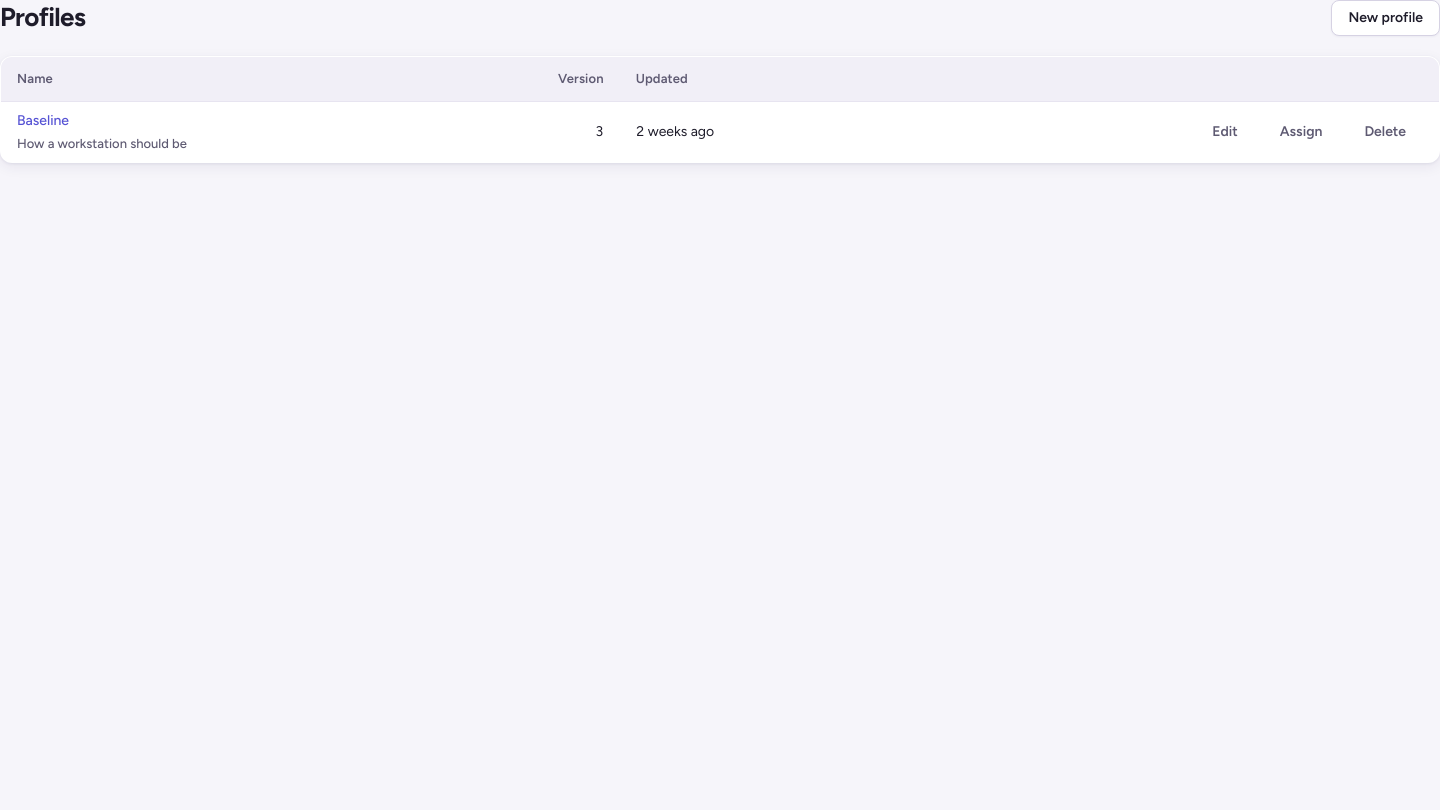
Scenario: Profiles: the M8 setting kinds › lets an update policy leave a setting alone
expect the button "Baseline" is shown: met, box x1=17 y1=110 x2=69 y2=132
Click the button "New profile": (1386,18) x1=1332 y1=0 x2=1439 y2=36
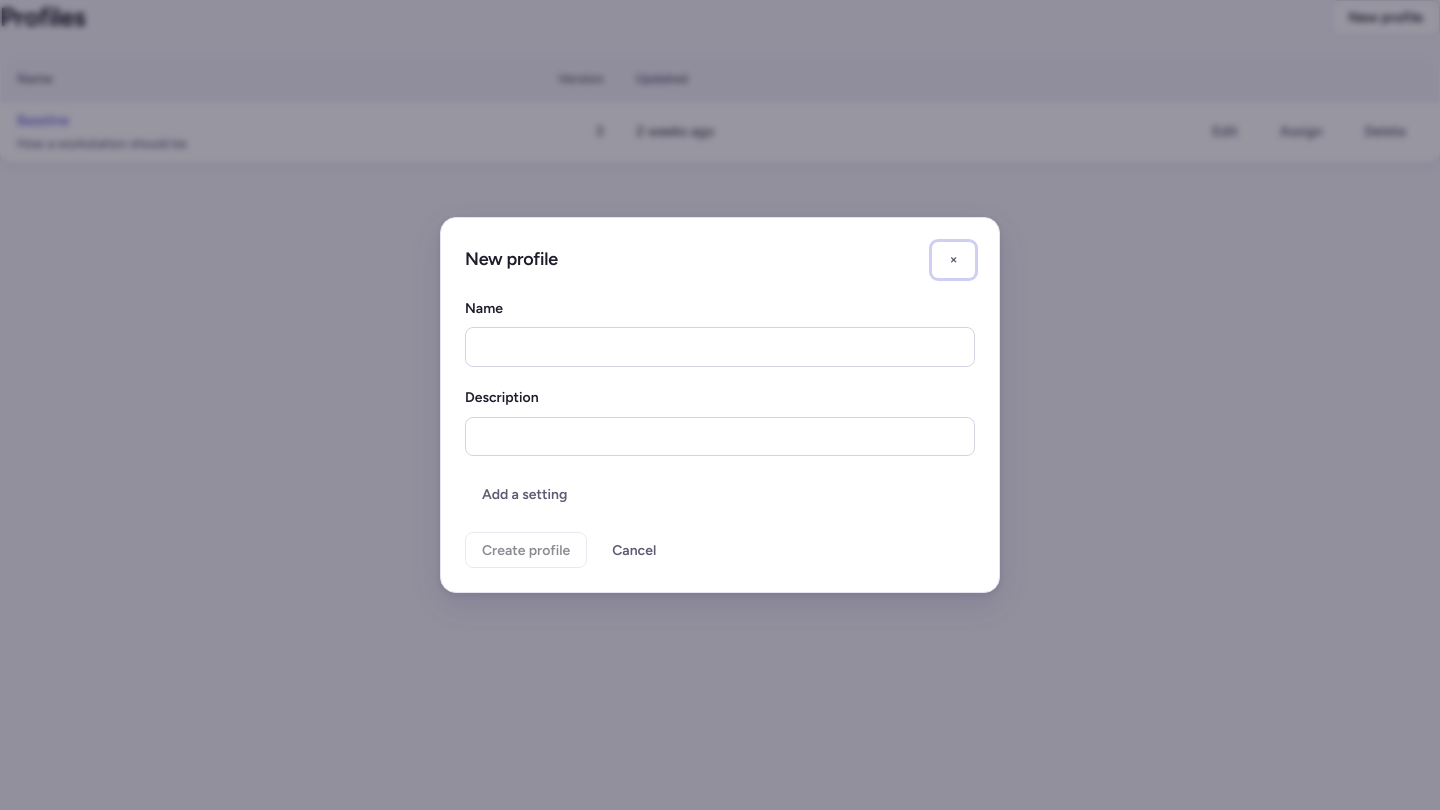
Click the button "Add a setting": (525,494) x1=465 y1=476 x2=584 y2=512
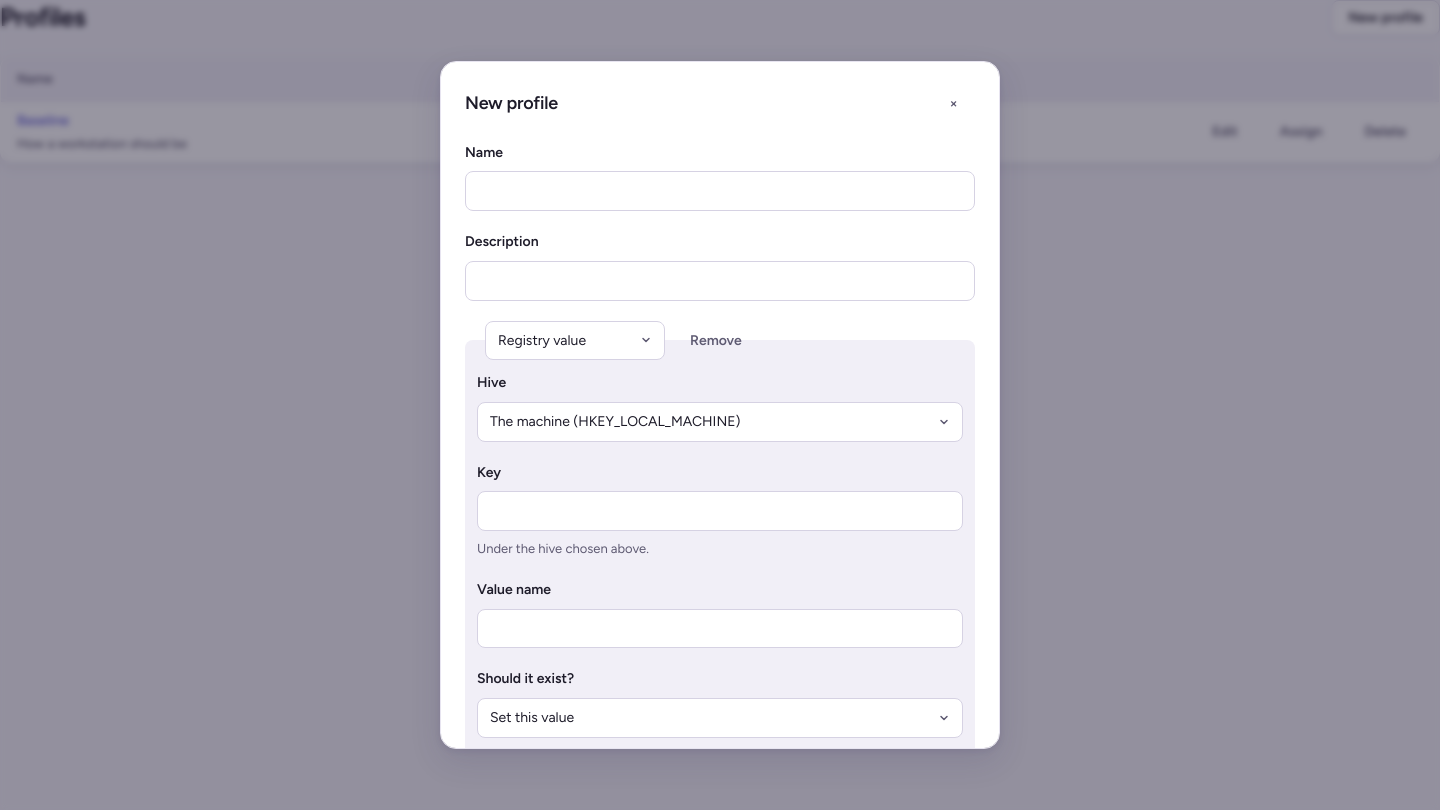
Select "Windows Update" in the dropdown named "Setting 1 kind": (575,340) x1=485 y1=320 x2=665 y2=360
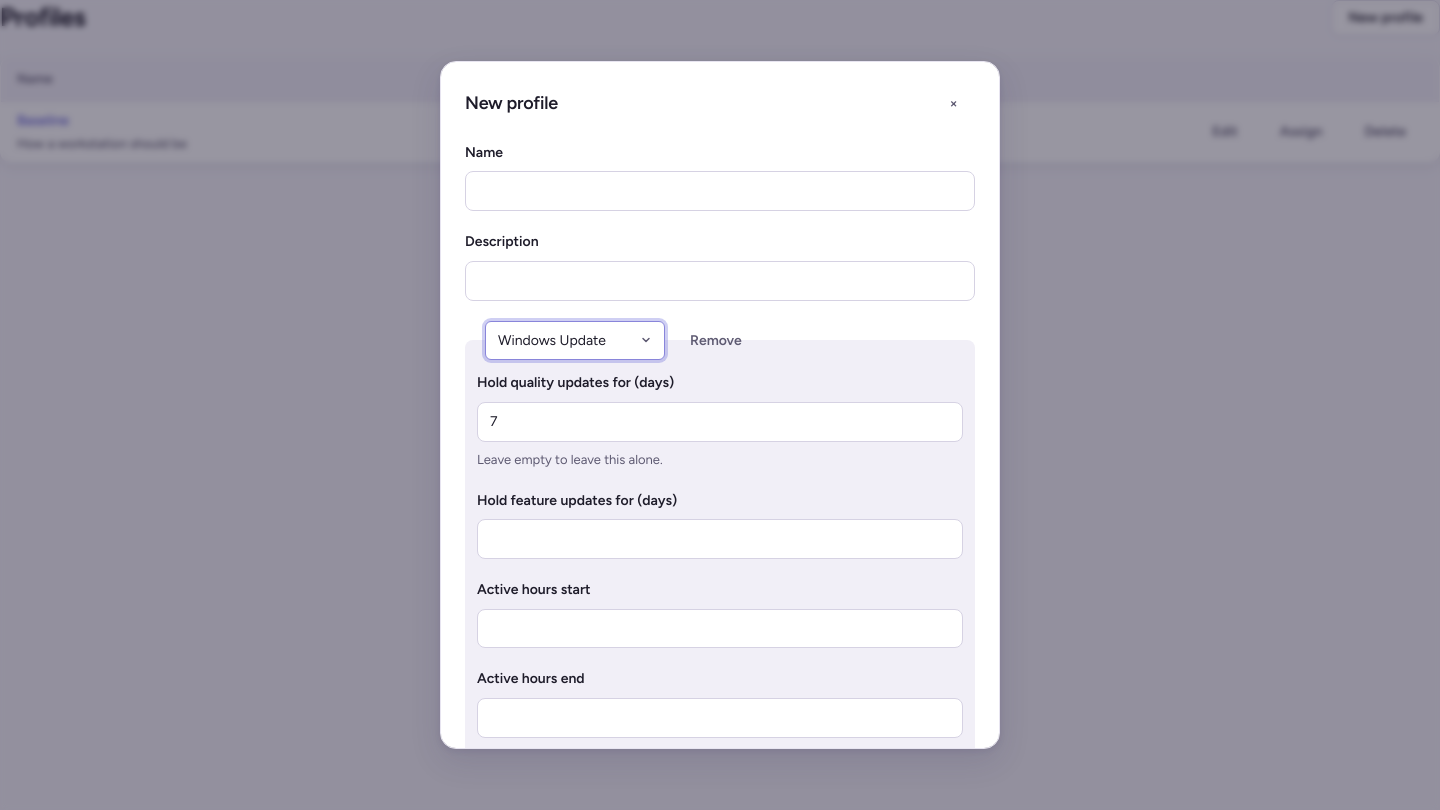
expect the text "Leave empty to leave this alone." is shown: met, box x1=477 y1=452 x2=663 y2=467
